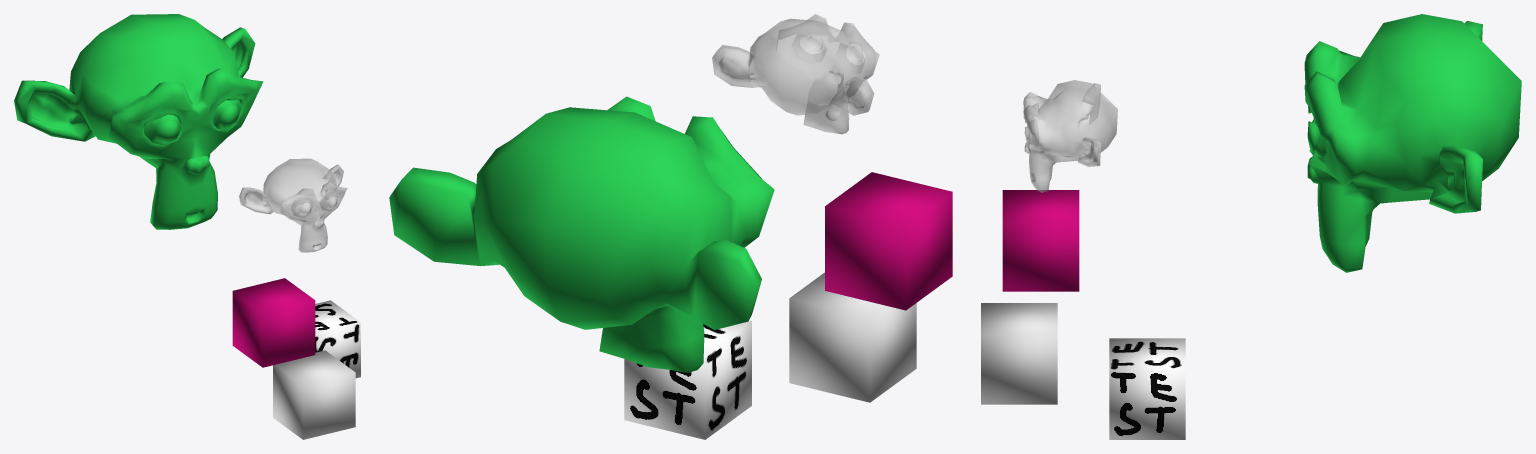
The picture shows the model from 3 angles, left to right: view 1: azimuth 30°, elevation 25°; view 2: azimuth 150°, elevation 25°; view 3: azimuth 270°, elevation 25°; orthographic projection. The views are drawn at different scales.
Parts seen in each view (by area): view 1: Suzanne, Cube, Suzanne_001, Test; view 2: Suzanne, Cube, Suzanne_001, Test; view 3: Suzanne, Cube, Test, Suzanne_001.
Part boxes in pixels (x1,y1,x2,y2): Suzanne: (14, 14, 263, 229); Cube: (232, 278, 355, 439); Suzanne_001: (239, 158, 347, 252); Test: (315, 300, 360, 378); Suzanne: (389, 96, 774, 372); Cube: (789, 172, 952, 402); Suzanne_001: (712, 14, 879, 134); Test: (624, 320, 751, 439); Suzanne: (1304, 14, 1521, 272); Cube: (981, 190, 1079, 404); Test: (1109, 338, 1185, 439); Suzanne_001: (1023, 80, 1117, 192).
Size of what is drawn, in the model's own units: 9.12 by 14.13 by 10.3.
Materials: 5 (1 with a texture image).
